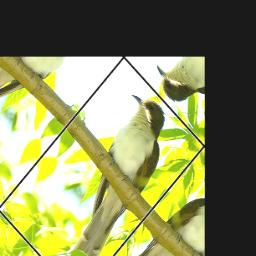Cuckoo: (22, 84, 197, 256)
